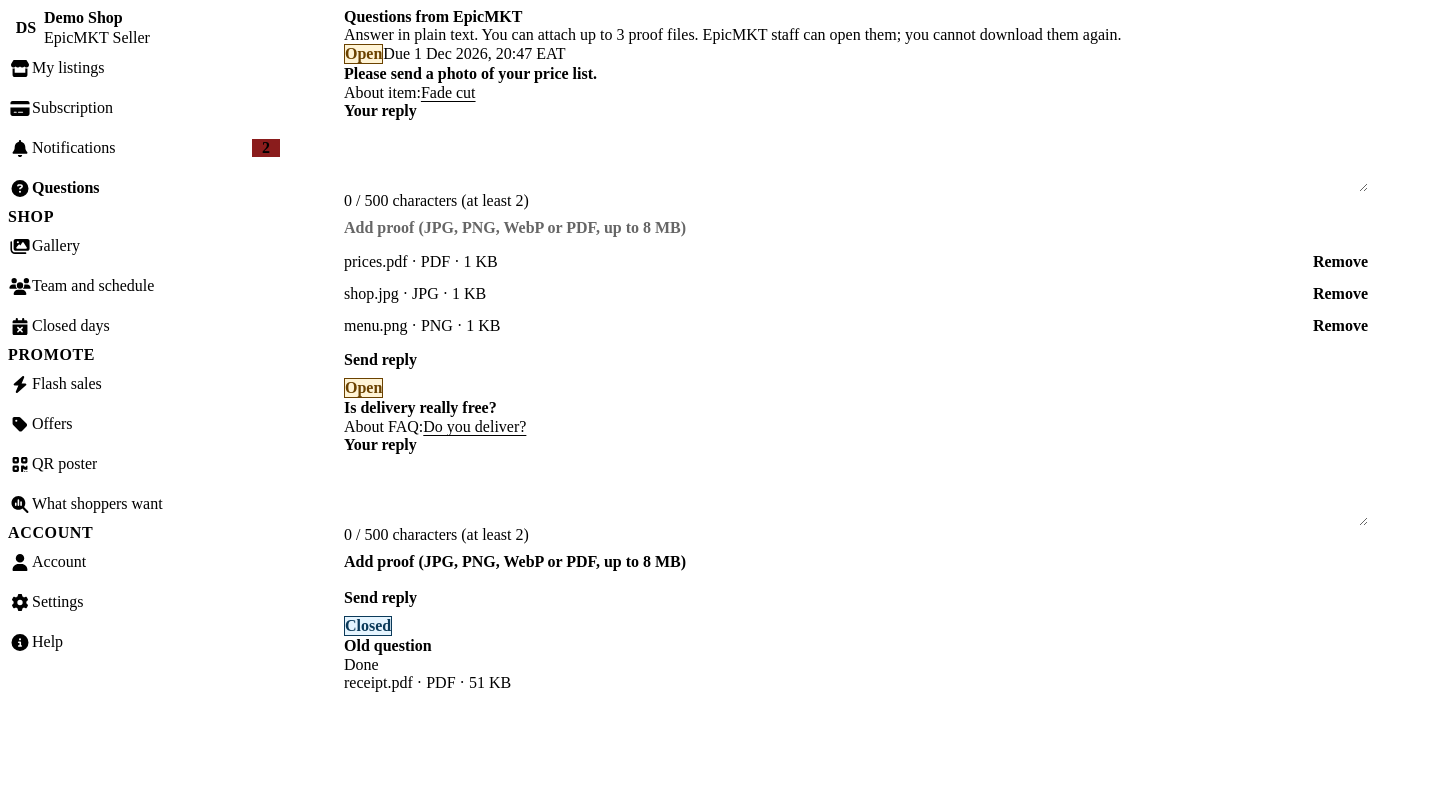
Test case: questions from the admin › replies with up to 3 files and lists them by name, type and size
Earlier steps of the test are not shown.
Type "Here are my prices." into the text box labelled "Your reply" below "Due" at (856,156), box 344,120 -> 1368,192
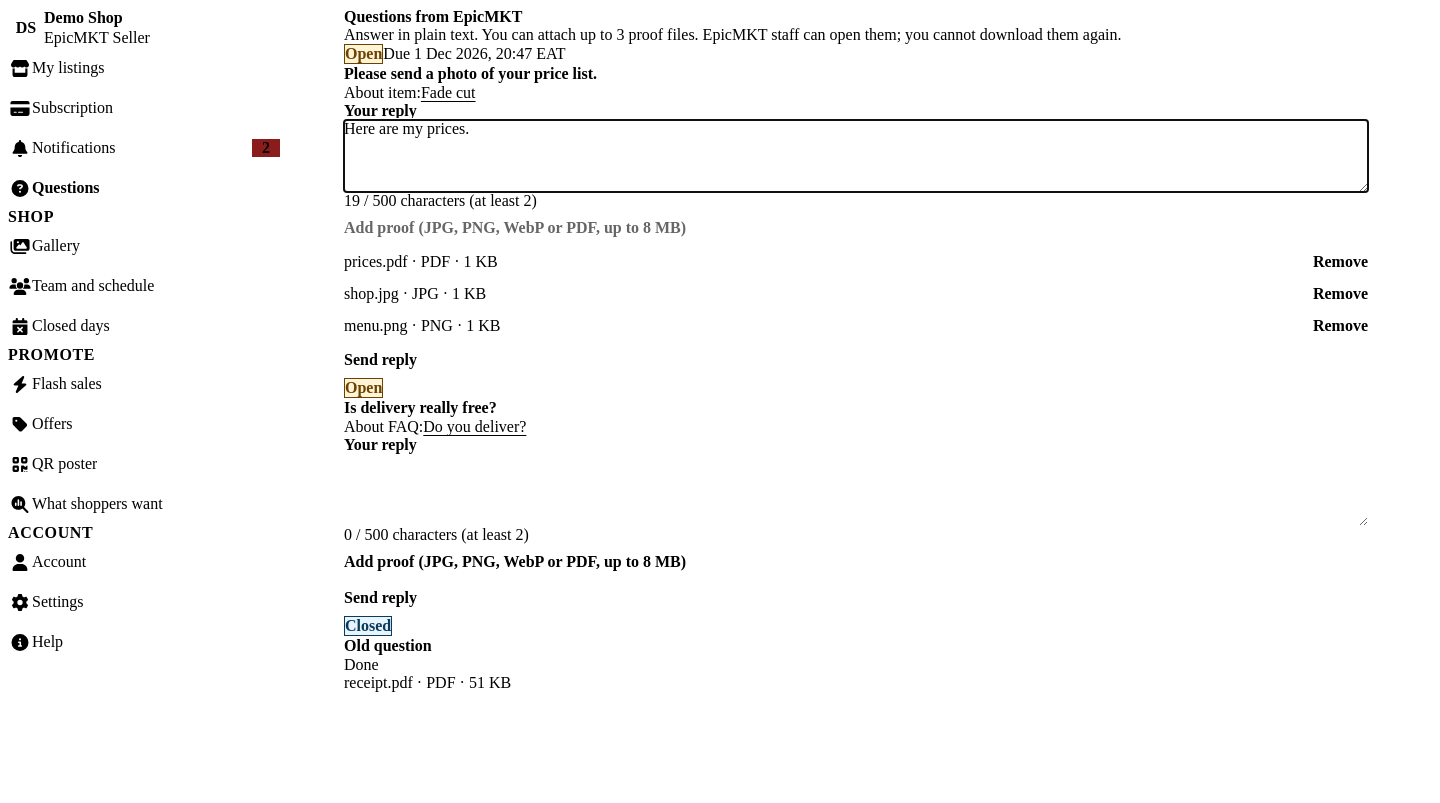
Click the button "Send reply" below "menu.png" at (381,360), box 344,342 -> 417,378
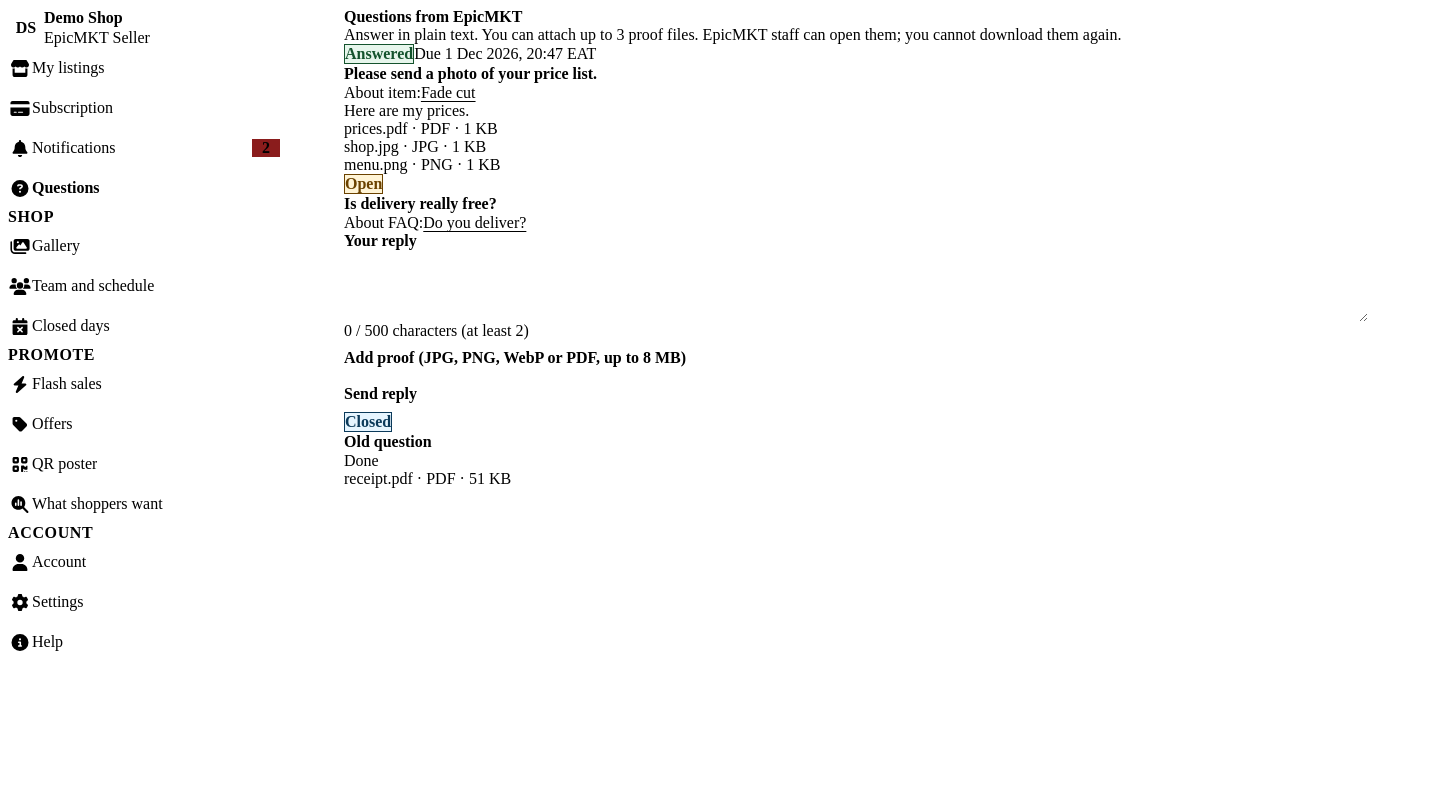
Expected: the text "prices.pdf · PDF · 1 KB" is shown, 344,120 -> 498,138
Now the text "Answered" is shown, box 344,44 -> 414,64
